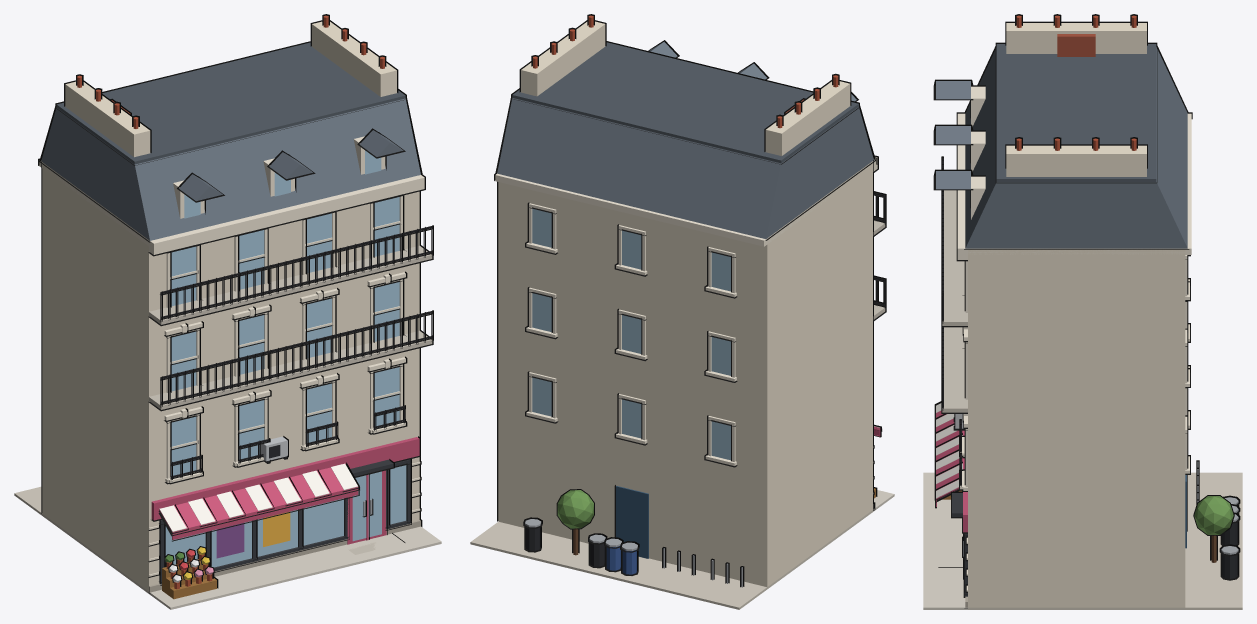
File: Blok_duz_4k_1.fbx
The picture shows the model from 3 angles, left to right: view 1: azimuth 30°, elevation 25°; view 2: azimuth 150°, elevation 25°; view 3: azimuth 270°, elevation 25°; orthographic projection. The views are drawn at different scales.
Parts seen in each view (by area): view 1: Blok_duz_4k_1; view 2: Blok_duz_4k_1; view 3: Blok_duz_4k_1.
Part boxes in pixels (x1,y1,x2,y2): Blok_duz_4k_1: (14,14,441,609); Blok_duz_4k_1: (470,14,894,609); Blok_duz_4k_1: (923,14,1242,609).
Bounding box in the file's own units: 10.1 × 16.13 × 10.
